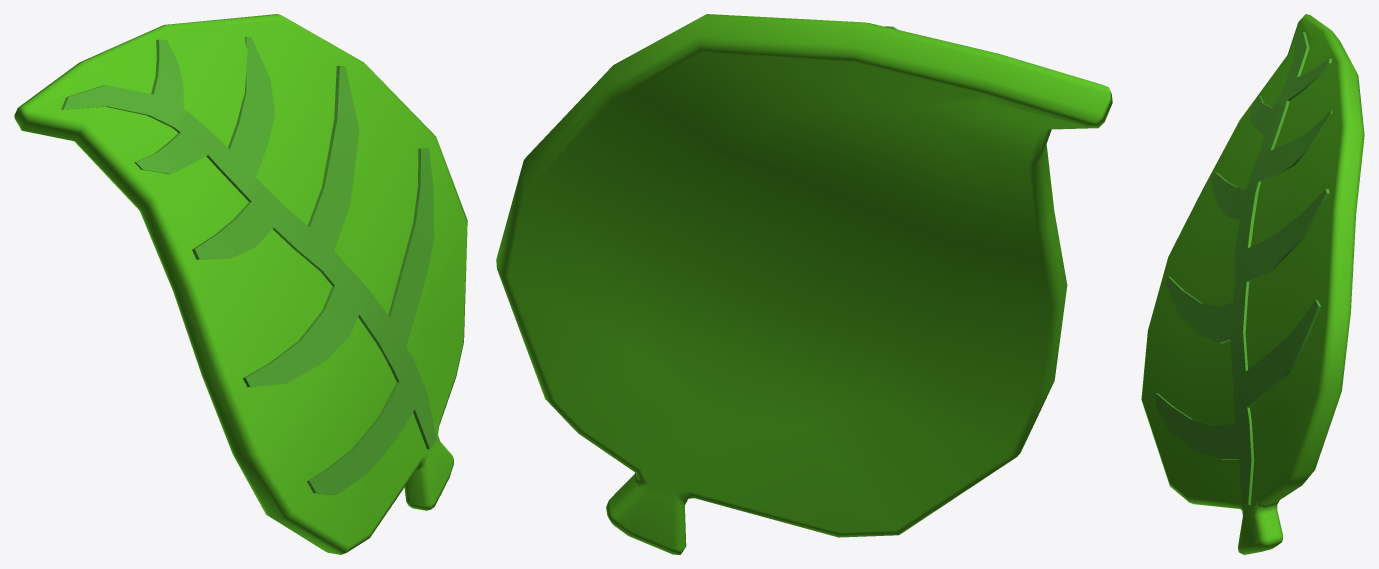
3 renders of one model, left to right at view 1: azimuth 30°, elevation 25°; view 2: azimuth 150°, elevation 25°; view 3: azimuth 270°, elevation 25°, orthographic. The views are drawn at different scales.
Visible parts, largest first — view 1: model_1.066; view 2: model_1.066; view 3: model_1.066.
Part boxes in pixels (box(x1,y1,x2,y2)): model_1.066: box(14, 14, 467, 554); model_1.066: box(496, 14, 1112, 554); model_1.066: box(1141, 14, 1364, 554).
Size of the model in its own units: 3.76 by 3.86 by 1.9.
